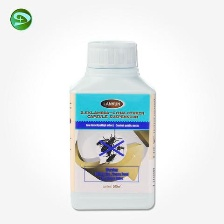insecticide: (63, 33, 159, 214)
